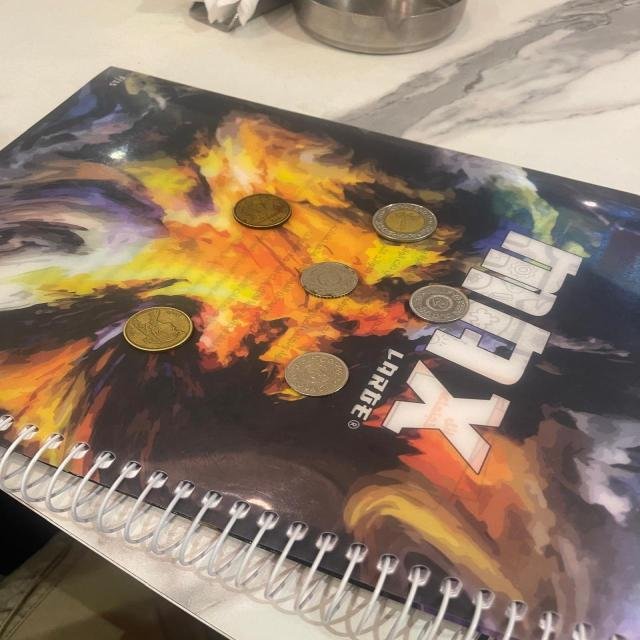Half Pound: (120, 302, 198, 356), (234, 192, 295, 231)
One Pound: (367, 198, 442, 249)
quarter pound: (280, 350, 356, 400), (296, 256, 366, 302), (403, 282, 475, 325)
